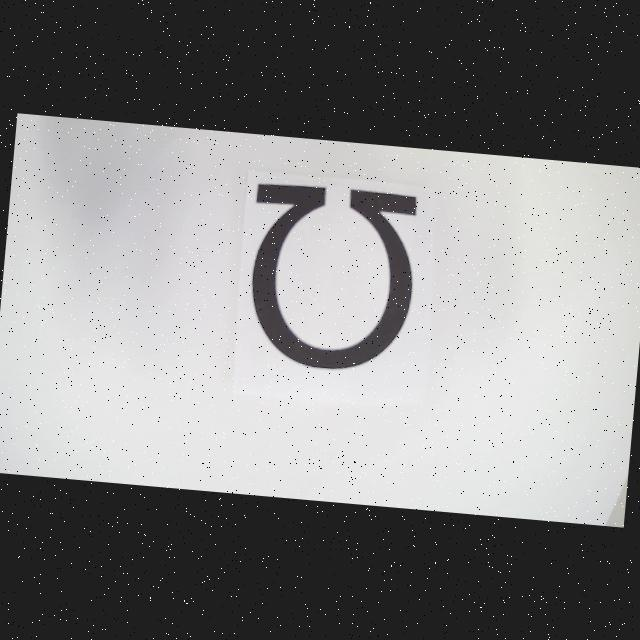OMEGA: (242, 182, 419, 376)
